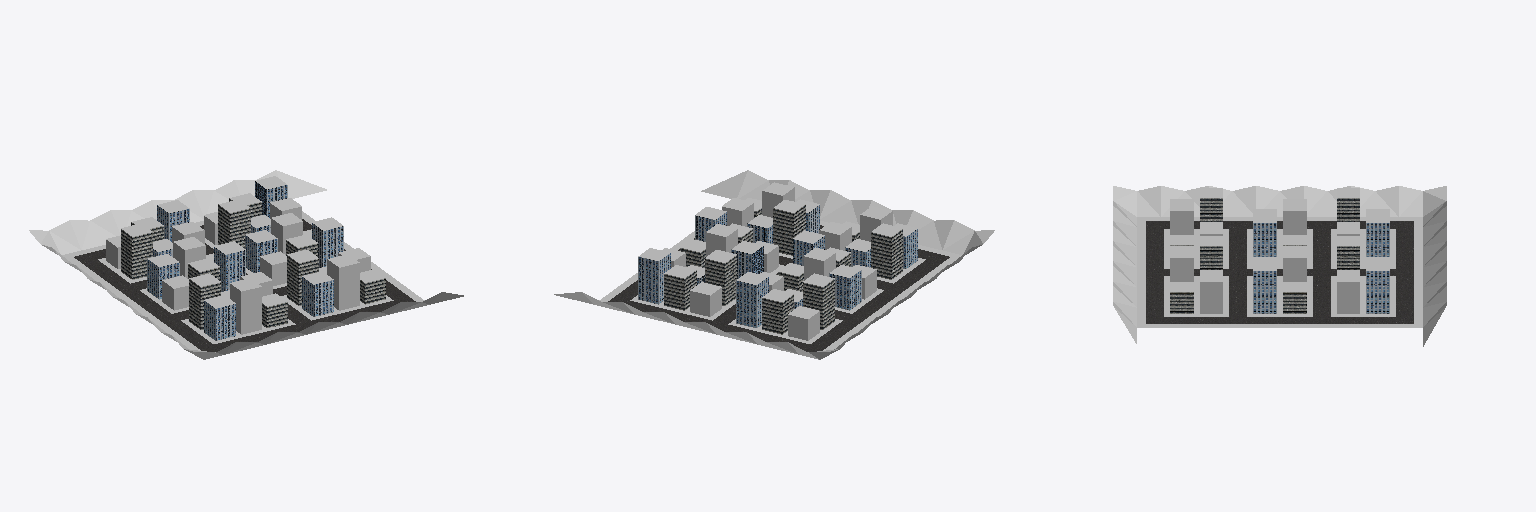
The picture shows the model from 3 angles: view 1: azimuth 30°, elevation 25°; view 2: azimuth 150°, elevation 25°; view 3: azimuth 270°, elevation 25°; orthographic projection.
Size of the model in its own units: 560 by 80 by 560.
Materials: 11 (3 with a texture image).